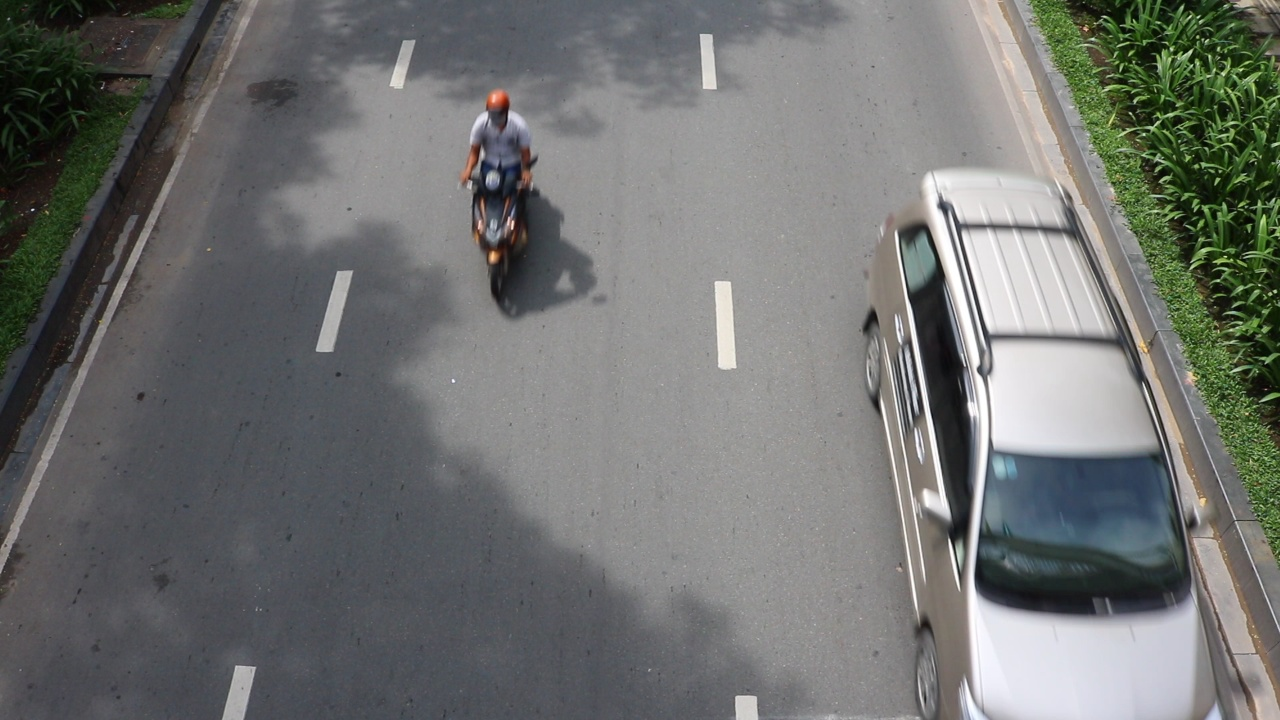car: (859, 166, 1258, 714)
motorcycle: (464, 174, 531, 296)
